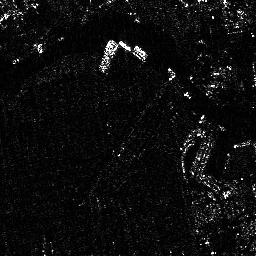ship: (133, 45, 149, 59)
